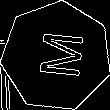M_W: (29, 31, 84, 82)
